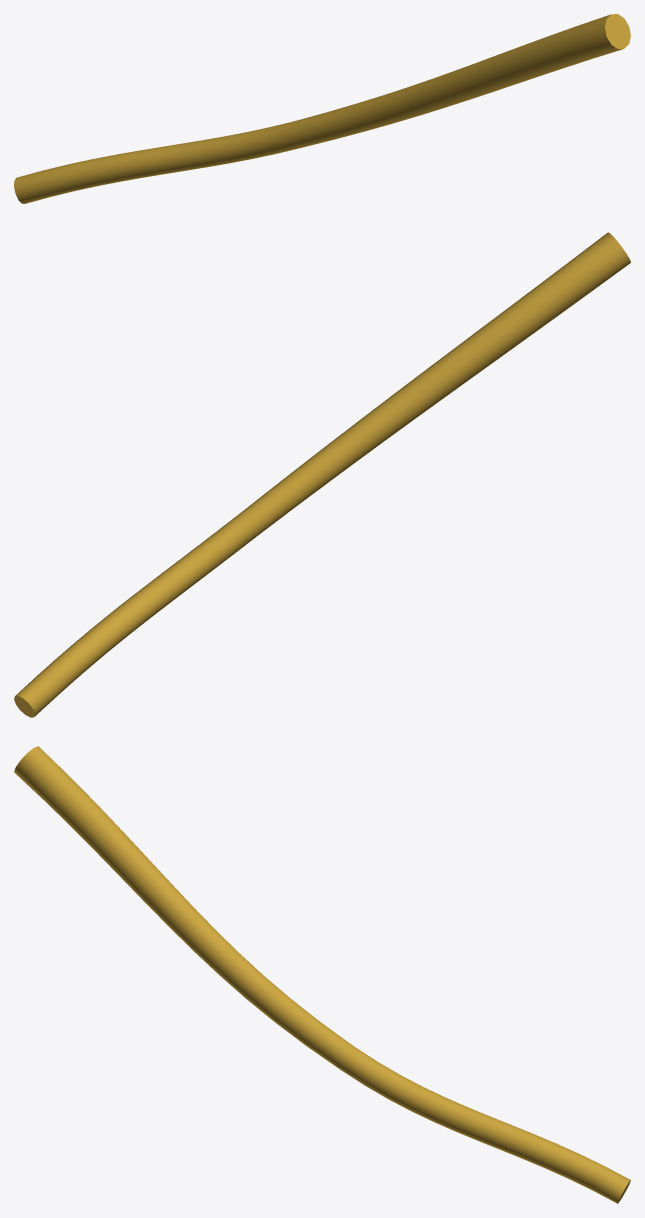
3 renders of one model, top to bottom at view 1: azimuth 90°, elevation 25°; view 2: azimuth 150°, elevation 25°; view 3: azimuth 270°, elevation 25°, orthographic. The views are drawn at different scales.
Visible parts, largest first — view 1: 左侧下颌神经前干; view 2: 左侧下颌神经前干; view 3: 左侧下颌神经前干.
Boxes of the visible parts, x1=… form: 左侧下颌神经前干: x1=14, y1=14, x2=630, y2=203; 左侧下颌神经前干: x1=14, y1=232, x2=630, y2=717; 左侧下颌神经前干: x1=14, y1=746, x2=630, y2=1203.
Bounding box in the file's own units: 0.0112 × 0.0113 × 0.0196.
